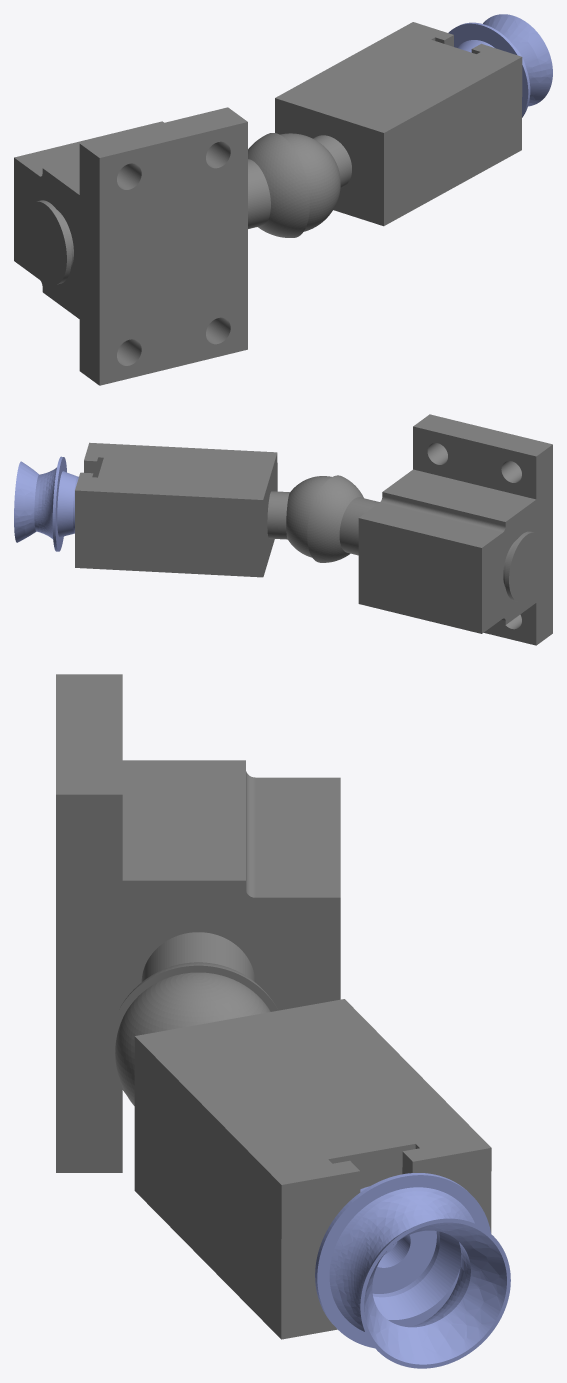
The model's file is Suction.dae.
3 renders of one model, top to bottom at view 1: azimuth 30°, elevation 25°; view 2: azimuth 150°, elevation 25°; view 3: azimuth 270°, elevation 25°, orthographic. The views are drawn at different scales.
Visible parts, largest first — view 1: node2, node0, node3, node1; view 2: node2, node0, node3, node1; view 3: node0, node2, node1, node3.
Boxes of the visible parts, box(x1,y1,x2,y2) form: node2: box(14, 107, 247, 385); node0: box(275, 22, 522, 231); node3: box(24, 133, 309, 285); node1: box(448, 14, 552, 117); node2: box(358, 414, 552, 645); node0: box(75, 442, 331, 577); node3: box(307, 475, 544, 601); node1: box(14, 456, 78, 551); node0: box(115, 972, 491, 1339); node2: box(56, 674, 340, 1172); node1: box(315, 1173, 510, 1368); node3: box(109, 932, 278, 1093).
Size of the model in its own units: 0.0562 by 0.024 by 0.022.
